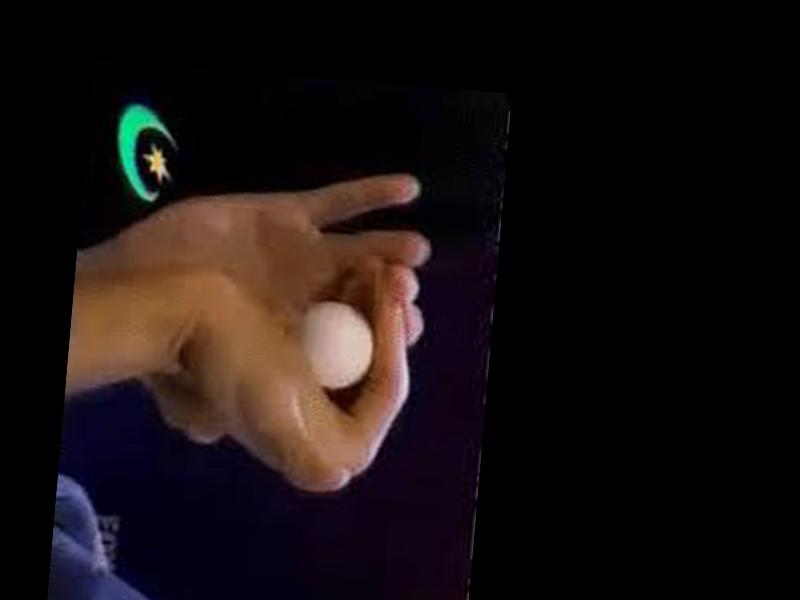Eggs: (302, 298, 379, 394)
